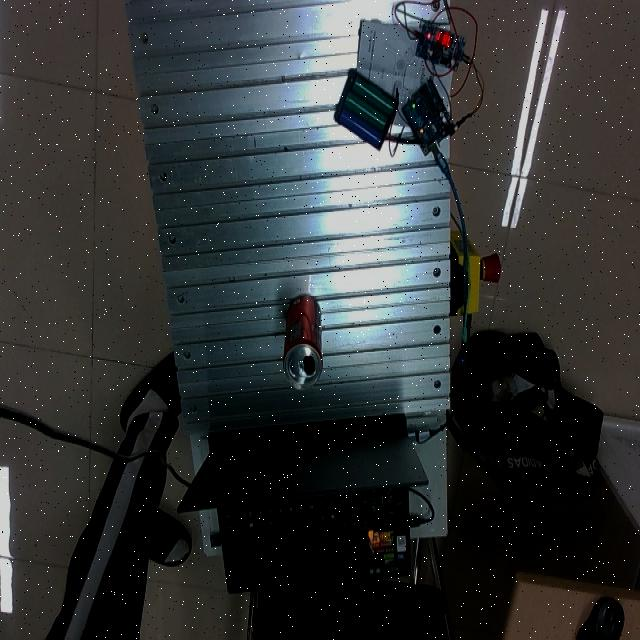coca: (283, 294, 324, 390)
